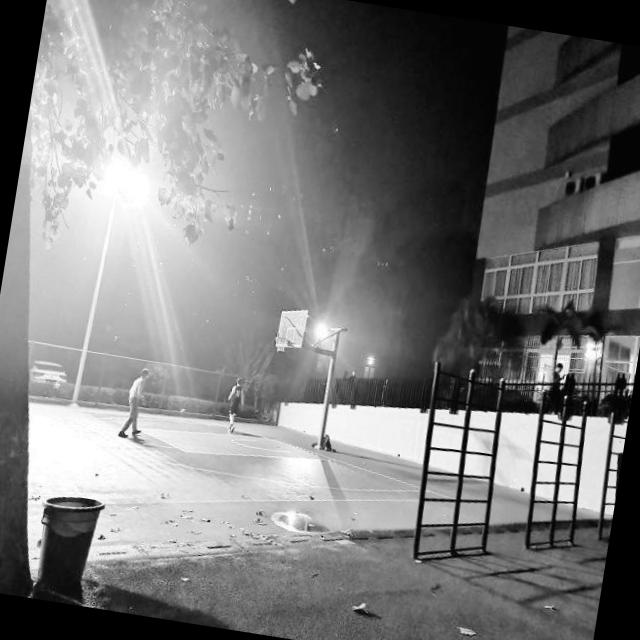Light: (60, 154, 158, 415), (287, 294, 348, 380), (358, 348, 378, 374)
Tree: (0, 28, 110, 597)
